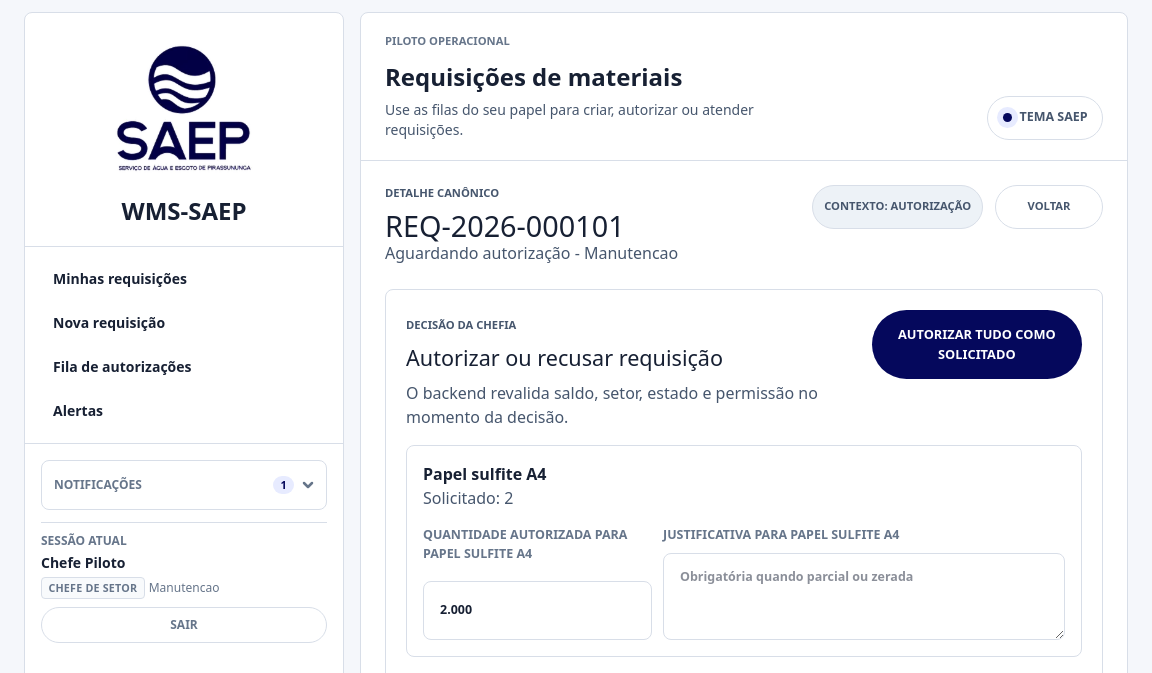
frontend pilot router › authorizes all requested items from authorization context
Expected: the heading "REQ-2026-000101" is shown, [385, 206, 625, 245]
What coordinates should you click on to do the following:
click the button "Autorizar tudo como solicitado"
I would click on:
 (977, 345)
Its box is [872, 310, 1082, 379].
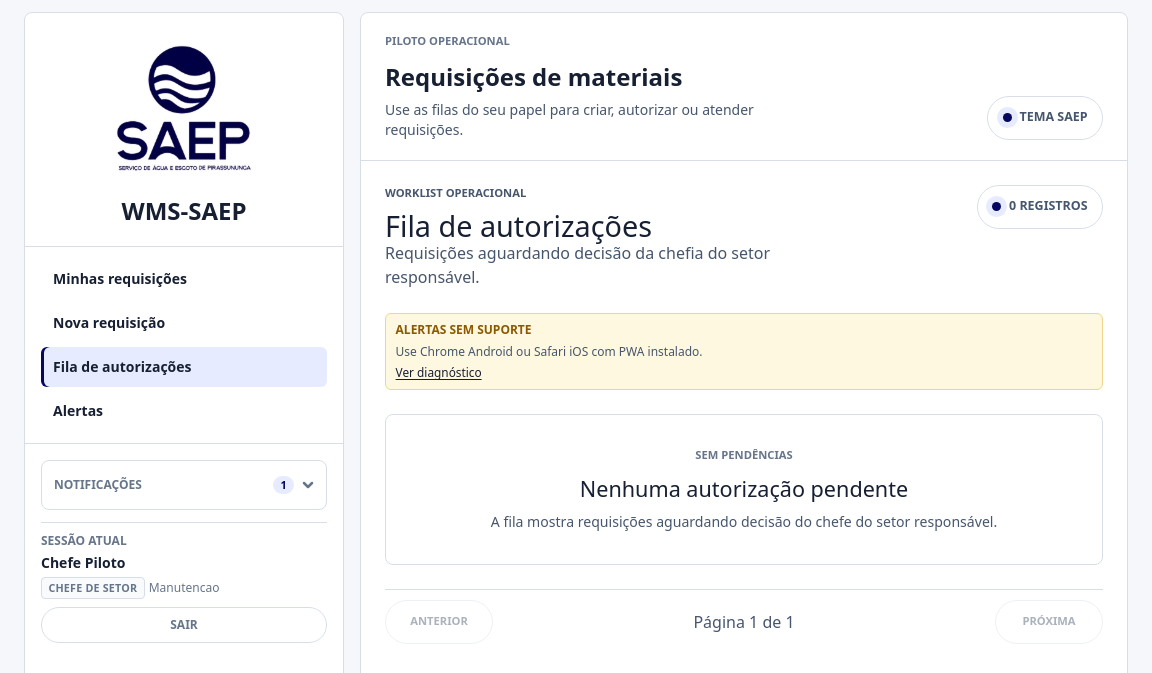
Expected: the heading "Nenhuma autorização pendente" is shown, [580, 474, 908, 503]
